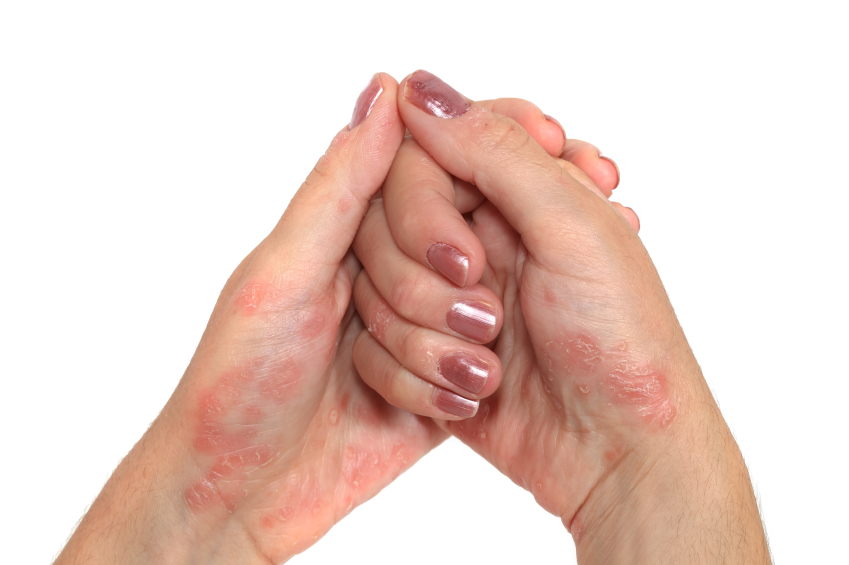Diseased: (229, 167, 695, 529)
